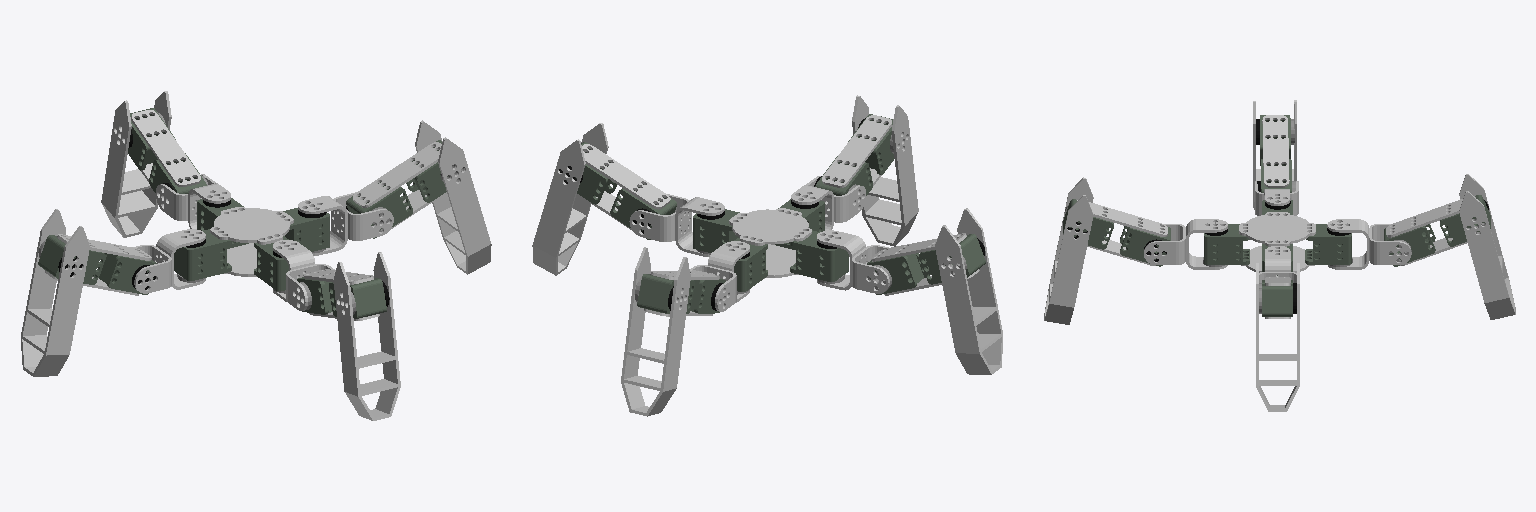
--- Facts derived from the render (not from the file) ---
Views: 3 orthographic renders of the robot side by side, from view 1: azimuth 30°, elevation 25°; view 2: azimuth 150°, elevation 25°; view 3: azimuth 270°, elevation 25°.
Robot: metabot — 13 links, 12 joints (12 revolute); root link body_1; default pose: every joint at zero.
Visible links, largest first — view 1: body_1, arm_leg_4, arm_leg_7, arm_leg_10, arm_leg_13, side_to_side_9, side_to_side_12, side_to_side_3, side_to_side_6, double_u_8, double_u_2, double_u_11 (+1 smaller); view 2: body_1, arm_leg_4, arm_leg_13, arm_leg_10, arm_leg_7, side_to_side_9, side_to_side_6, side_to_side_3, side_to_side_12, double_u_8, double_u_2, double_u_5 (+1 smaller); view 3: body_1, arm_leg_13, arm_leg_7, side_to_side_6, side_to_side_12, side_to_side_3, double_u_5, double_u_11, arm_leg_10, side_to_side_9, double_u_8, double_u_2 (+1 smaller).
Link boxes in pixels (x1,y1,x2,y2): body_1: [174, 198, 329, 293]; arm_leg_4: [21, 209, 89, 376]; arm_leg_7: [334, 252, 400, 420]; arm_leg_10: [415, 120, 491, 274]; arm_leg_13: [101, 91, 171, 237]; side_to_side_9: [346, 140, 464, 238]; side_to_side_12: [128, 108, 207, 193]; side_to_side_3: [38, 234, 156, 295]; side_to_side_6: [297, 269, 389, 320]; double_u_8: [298, 192, 393, 255]; double_u_2: [133, 229, 205, 293]; double_u_11: [156, 174, 230, 228]; body_1: [693, 199, 848, 294]; arm_leg_4: [935, 208, 1002, 374]; arm_leg_13: [621, 247, 690, 416]; arm_leg_10: [532, 123, 608, 275]; arm_leg_7: [852, 95, 918, 246]; side_to_side_9: [559, 142, 676, 239]; side_to_side_6: [814, 114, 894, 195]; side_to_side_3: [867, 233, 985, 295]; side_to_side_12: [635, 270, 725, 316]; double_u_8: [629, 194, 724, 256]; double_u_2: [817, 230, 889, 293]; double_u_5: [791, 176, 865, 230]; body_1: [1203, 200, 1352, 275]; arm_leg_13: [1459, 174, 1515, 319]; arm_leg_7: [1044, 177, 1093, 324]; side_to_side_6: [1063, 199, 1170, 266]; side_to_side_12: [1384, 195, 1490, 266]; side_to_side_3: [1256, 115, 1295, 192]; double_u_5: [1144, 219, 1227, 269]; double_u_11: [1327, 219, 1411, 269]; arm_leg_10: [1256, 263, 1299, 411]; side_to_side_9: [1259, 277, 1296, 318]; double_u_8: [1259, 246, 1296, 282]; double_u_2: [1254, 181, 1298, 215].
Size in the robot's own frame: 0.3713 by 0.3681 by 0.1208 metres.
Meshes: 7 distinct files referenced, 58 mesh visuals loaded (7 binary STL).

robot.urdf — metabot:
<robot name="metabot">

  <!-- Component body#1 -->

  <link name="body_1">
    <visual>
      <geometry>
        <mesh filename="package://urdf/4e915d5b16aa8907cefccf30eb105d8e3d740b2d.stl"/>
      </geometry>
      <material name="body_motor_1_0_material">
        <color rgba="0.4 0.45 0.4 1.0"/>
      </material>
    <origin xyz="-0.0487 1.08136e-17 0" rpy="0 -0 1.5708"/>
    </visual>
    <visual>
      <geometry>
        <mesh filename="package://urdf/c9594df5a78549c55778e76bc0836a7712245e87.stl"/>
      </geometry>
      <material name="body_arm_1_1_material">
        <color rgba="0.1 0.1 0.1 1.0"/>
      </material>
    <origin xyz="-0.0487 1.08136e-17 0.012" rpy="0 -0 1.5708"/>
    </visual>
    <visual>
      <geometry>
        <mesh filename="package://urdf/5dfb01608b6ea4556f482be78f0e2e7bf62b1390.stl"/>
      </geometry>
      <material name="body_pulley_1_2_material">
        <color rgba="0.6 0.6 0.6 1.0"/>
      </material>
    <origin xyz="-0.0487 1.08136e-17 -0.015" rpy="0 -0 1.5708"/>
    </visual>
    <visual>
      <geometry>
        <mesh filename="package://urdf/4e915d5b16aa8907cefccf30eb105d8e3d740b2d.stl"/>
      </geometry>
      <material name="body_motor_1_3_material">
        <color rgba="0.4 0.45 0.4 1.0"/>
      </material>
    <origin xyz="-5.96405e-18 -0.0487 0" rpy="0 -0 3.14159"/>
    </visual>
    <visual>
      <geometry>
        <mesh filename="package://urdf/c9594df5a78549c55778e76bc0836a7712245e87.stl"/>
      </geometry>
      <material name="body_arm_1_4_material">
        <color rgba="0.1 0.1 0.1 1.0"/>
      </material>
    <origin xyz="-5.96405e-18 -0.0487 0.012" rpy="0 -0 3.14159"/>
    </visual>
    <visual>
      <geometry>
        <mesh filename="package://urdf/5dfb01608b6ea4556f482be78f0e2e7bf62b1390.stl"/>
      </geometry>
      <material name="body_pulley_1_5_material">
        <color rgba="0.6 0.6 0.6 1.0"/>
      </material>
    <origin xyz="-5.96405e-18 -0.0487 -0.015" rpy="0 -0 3.14159"/>
    </visual>
    <visual>
      <geometry>
        <mesh filename="package://urdf/4e915d5b16aa8907cefccf30eb105d8e3d740b2d.stl"/>
      </geometry>
      <material name="body_motor_1_6_material">
        <color rgba="0.4 0.45 0.4 1.0"/>
      </material>
    <origin xyz="0.0487 -1.08136e-17 0" rpy="0 -0 -1.5708"/>
    </visual>
    <visual>
      <geometry>
        <mesh filename="package://urdf/c9594df5a78549c55778e76bc0836a7712245e87.stl"/>
      </geometry>
      <material name="body_arm_1_7_material">
        <color rgba="0.1 0.1 0.1 1.0"/>
      </material>
    <origin xyz="0.0487 -1.08136e-17 0.012" rpy="0 -0 -1.5708"/>
    </visual>
    <visual>
      <geometry>
        <mesh filename="package://urdf/5dfb01608b6ea4556f482be78f0e2e7bf62b1390.stl"/>
      </geometry>
      <material name="body_pulley_1_8_material">
        <color rgba="0.6 0.6 0.6 1.0"/>
      </material>
    <origin xyz="0.0487 -1.08136e-17 -0.015" rpy="0 -0 -1.5708"/>
    </visual>
    <visual>
      <geometry>
        <mesh filename="package://urdf/4e915d5b16aa8907cefccf30eb105d8e3d740b2d.stl"/>
      </geometry>
      <material name="body_motor_1_9_material">
        <color rgba="0.4 0.45 0.4 1.0"/>
      </material>
    <origin xyz="1.1928e-17 0.0487 0" rpy="0 -0 -2.44929e-16"/>
    </visual>
    <visual>
      <geometry>
        <mesh filename="package://urdf/c9594df5a78549c55778e76bc0836a7712245e87.stl"/>
      </geometry>
      <material name="body_arm_1_10_material">
        <color rgba="0.1 0.1 0.1 1.0"/>
      </material>
    <origin xyz="1.1928e-17 0.0487 0.012" rpy="0 -0 -2.44929e-16"/>
    </visual>
    <visual>
      <geometry>
        <mesh filename="package://urdf/5dfb01608b6ea4556f482be78f0e2e7bf62b1390.stl"/>
      </geometry>
      <material name="body_pulley_1_11_material">
        <color rgba="0.6 0.6 0.6 1.0"/>
      </material>
    <origin xyz="1.1928e-17 0.0487 -0.015" rpy="0 -0 -2.44929e-16"/>
    </visual>
    <visual>
      <geometry>
        <mesh filename="package://urdf/449a5639fcbe7efea7b5494d815c507bb183f40e.stl"/>
      </geometry>
      <material name="body_body_plate_1_12_material">
        <color rgba="0.8 0.8 0.8 1.0"/>
      </material>
    <origin xyz="0 0 -0.0142" rpy="0 -0 0"/>
    </visual>
    <visual>
      <geometry>
        <mesh filename="package://urdf/449a5639fcbe7efea7b5494d815c507bb183f40e.stl"/>
      </geometry>
      <material name="body_body_plate_1_13_material">
        <color rgba="0.8 0.8 0.8 1.0"/>
      </material>
    <origin xyz="0 0 0.012" rpy="0 -0 0"/>
    </visual>
  <inertial>
    <origin xyz="4.53594e-11 -3.82642e-10 -1.12162e-05" rpy="0 0 0"/>
    <mass value="0.099456"/>
    <inertia ixx="0.001"  ixy="0"  ixz="0" iyy="0.001" iyz="0" izz="0.001" />
  </inertial>
  <collision>
    <origin xyz="0 0 -0.0131" rpy="0 -0 0"/>
    <geometry>
      <cylinder radius="0.0268" length="0.002"/>
    </geometry>
  </collision>
  <collision>
    <origin xyz="-0.015 3.55271e-18 -0.0131" rpy="0 -0 1.5708"/>
    <geometry>
      <box size="0.0198 0.0298 0.002"/>
    </geometry>
  </collision>
  <collision>
    <origin xyz="-1.77636e-18 -0.015 -0.0131" rpy="0 -0 3.14159"/>
    <geometry>
      <box size="0.0198 0.0298 0.002"/>
    </geometry>
  </collision>
  <collision>
    <origin xyz="0.015 -3.55271e-18 -0.0131" rpy="0 -0 -1.5708"/>
    <geometry>
      <box size="0.0198 0.0298 0.002"/>
    </geometry>
  </collision>
  <collision>
    <origin xyz="3.55271e-18 0.015 -0.0131" rpy="0 -0 -2.44929e-16"/>
    <geometry>
      <box size="0.0198 0.0298 0.002"/>
    </geometry>
  </collision>
  <collision>
    <origin xyz="0 0 0.0131" rpy="0 -0 0"/>
    <geometry>
      <cylinder radius="0.0268" length="0.002"/>
    </geometry>
  </collision>
  <collision>
    <origin xyz="-0.015 3.55271e-18 0.0131" rpy="0 -0 1.5708"/>
    <geometry>
      <box size="0.0198 0.0298 0.002"/>
    </geometry>
  </collision>
  <collision>
    <origin xyz="-1.77636e-18 -0.015 0.0131" rpy="0 -0 3.14159"/>
    <geometry>
      <box size="0.0198 0.0298 0.002"/>
    </geometry>
  </collision>
  <collision>
    <origin xyz="0.015 -3.55271e-18 0.0131" rpy="0 -0 -1.5708"/>
    <geometry>
      <box size="0.0198 0.0298 0.002"/>
    </geometry>
  </collision>
  <collision>
    <origin xyz="3.55271e-18 0.015 0.0131" rpy="0 -0 -2.44929e-16"/>
    <geometry>
      <box size="0.0198 0.0298 0.002"/>
    </geometry>
  </collision>
  <collision>
    <origin xyz="-0.0397 8.81519e-18 0" rpy="0 -0 1.5708"/>
    <geometry>
      <box size="0.0238 0.0358 0.0238"/>
    </geometry>
  </collision>
  <collision>
    <origin xyz="-4.86186e-18 -0.0397 0" rpy="0 -0 3.14159"/>
    <geometry>
      <box size="0.0238 0.0358 0.0238"/>
    </geometry>
  </collision>
  <collision>
    <origin xyz="0.0397 -8.81519e-18 0" rpy="0 -0 -1.5708"/>
    <geometry>
      <box size="0.0238 0.0358 0.0238"/>
    </geometry>
  </collision>
  <collision>
    <origin xyz="9.72368e-18 0.0397 0" rpy="0 -0 -2.44929e-16"/>
    <geometry>
      <box size="0.0238 0.0358 0.0238"/>
    </geometry>
  </collision>
  </link>

  <!-- Component double_u#2 -->

  <link name="double_u_2">
    <visual>
      <geometry>
        <mesh filename="package://urdf/0764304f24bb9e5a0ba815eb3006b9188f0b3c72.stl"/>
      </geometry>
      <material name="double_u_u_2_0_material">
        <color rgba="0.8 0.8 0.8 1.0"/>
      </material>
    <origin xyz="0 0 0" rpy="0 -0 0"/>
    </visual>
    <visual>
      <geometry>
        <mesh filename="package://urdf/0764304f24bb9e5a0ba815eb3006b9188f0b3c72.stl"/>
      </geometry>
      <material name="double_u_u_2_1_material">
        <color rgba="0.8 0.8 0.8 1.0"/>
      </material>
    <origin xyz="0 0.046 0" rpy="-3.14159 1.5708 0"/>
    </visual>
  <inertial>
    <origin xyz="-7.79416e-19 0.023 0" rpy="0 0 0"/>
    <mass value="0.0074688"/>
    <inertia ixx="0.001"  ixy="0"  ixz="0" iyy="0.001" iyz="0" izz="0.001" />
  </inertial>
  <collision>
    <origin xyz="0 0 -0.0161" rpy="0 -0 0"/>
    <geometry>
      <cylinder radius="0.0098" length="0.002"/>
    </geometry>
  </collision>
  <collision>
    <origin xyz="0 0.0075 -0.0161" rpy="0 -0 0"/>
    <geometry>
      <box size="0.0198 0.0148 0.002"/>
    </geometry>
  </collision>
  <collision>
    <origin xyz="0 0.0219 -0.0046" rpy="0 -0 0"/>
    <geometry>
      <box size="0.0198 0.002 0.009"/>
    </geometry>
  </collision>
  <collision>
    <origin xyz="0 0 0.0161" rpy="3.14159 -0 0"/>
    <geometry>
      <cylinder radius="0.0098" length="0.002"/>
    </geometry>
  </collision>
  <collision>
    <origin xyz="0 0.0075 0.0161" rpy="3.14159 -0 0"/>
    <geometry>
      <box size="0.0198 0.0148 0.002"/>
    </geometry>
  </collision>
  <collision>
    <origin xyz="0 0.0219 0.0046" rpy="3.14159 -0 0"/>
    <geometry>
      <box size="0.0198 0.002 0.009"/>
    </geometry>
  </collision>
  <collision>
    <origin xyz="0.0161 0.046 -3.57492e-18" rpy="-3.14159 1.5708 0"/>
    <geometry>
      <cylinder radius="0.0098" length="0.002"/>
    </geometry>
  </collision>
  <collision>
    <origin xyz="0.0161 0.0385 -3.55271e-18" rpy="-3.14159 1.5708 0"/>
    <geometry>
      <box size="0.0198 0.0148 0.002"/>
    </geometry>
  </collision>
  <collision>
    <origin xyz="0.0046 0.0241 0" rpy="-3.14159 1.5708 0"/>
    <geometry>
      <box size="0.0198 0.002 0.009"/>
    </geometry>
  </collision>
  <collision>
    <origin xyz="-0.0161 0.046 3.57492e-18" rpy="-1.22465e-16 1.5708 0"/>
    <geometry>
      <cylinder radius="0.0098" length="0.002"/>
    </geometry>
  </collision>
  <collision>
    <origin xyz="-0.0161 0.0385 3.55271e-18" rpy="-1.22465e-16 1.5708 0"/>
    <geometry>
      <box size="0.0198 0.0148 0.002"/>
    </geometry>
  </collision>
  <collision>
    <origin xyz="-0.0046 0.0241 0" rpy="-1.22465e-16 1.5708 0"/>
    <geometry>
      <box size="0.0198 0.002 0.009"/>
    </geometry>
  </collision>
  </link>
  <joint name="double_u_2_parent" type="revolute">
    <parent link="body_1"/>
    <child link="double_u_2"/>
    <axis xyz="0 0 1"/>
<origin xyz="-0.0487 1.08136e-17 0" rpy="0 -0 1.58999"/>
  </joint>

  <!-- Component side_to_side#3 -->

  <link name="side_to_side_3">
    <visual>
      <geometry>
        <mesh filename="package://urdf/4e915d5b16aa8907cefccf30eb105d8e3d740b2d.stl"/>
      </geometry>
      <material name="side_to_side_motor_3_0_material">
        <color rgba="0.4 0.45 0.4 1.0"/>
      </material>
    <origin xyz="0 0 0" rpy="0 -0 0"/>
    </visual>
    <visual>
      <geometry>
        <mesh filename="package://urdf/c9594df5a78549c55778e76bc0836a7712245e87.stl"/>
      </geometry>
      <material name="side_to_side_arm_3_1_material">
        <color rgba="0.1 0.1 0.1 1.0"/>
      </material>
    <origin xyz="0 0 0.012" rpy="0 -0 0"/>
    </visual>
    <visual>
      <geometry>
        <mesh filename="package://urdf/5dfb01608b6ea4556f482be78f0e2e7bf62b1390.stl"/>
      </geometry>
      <material name="side_to_side_pulley_3_2_material">
        <color rgba="0.6 0.6 0.6 1.0"/>
      </material>
    <origin xyz="0 0 -0.015" rpy="0 -0 0"/>
    </visual>
    <visual>
      <geometry>
        <mesh filename="package://urdf/4e915d5b16aa8907cefccf30eb105d8e3d740b2d.stl"/>
      </geometry>
      <material name="side_to_side_motor_3_3_material">
        <color rgba="0.4 0.45 0.4 1.0"/>
      </material>
    <origin xyz="0 -0.065 0" rpy="0 -0 3.14159"/>
    </visual>
    <visual>
      <geometry>
        <mesh filename="package://urdf/c9594df5a78549c55778e76bc0836a7712245e87.stl"/>
      </geometry>
      <material name="side_to_side_arm_3_4_material">
        <color rgba="0.1 0.1 0.1 1.0"/>
      </material>
    <origin xyz="0 -0.065 0.012" rpy="0 -0 3.14159"/>
    </visual>
    <visual>
      <geometry>
        <mesh filename="package://urdf/5dfb01608b6ea4556f482be78f0e2e7bf62b1390.stl"/>
      </geometry>
      <material name="side_to_side_pulley_3_5_material">
        <color rgba="0.6 0.6 0.6 1.0"/>
      </material>
    <origin xyz="0 -0.065 -0.015" rpy="0 -0 3.14159"/>
    </visual>
    <visual>
      <geometry>
        <mesh filename="package://urdf/3e0e05f799d19b074b541a3df6a5bef4b6e32c33.stl"/>
      </geometry>
      <material name="side_to_side_side_3_6_material">
        <color rgba="0.8 0.8 0.8 1.0"/>
      </material>
    <origin xyz="0.0142 0 0" rpy="3.14159 1.5708 0"/>
    </visual>
    <visual>
      <geometry>
        <mesh filename="package://urdf/3e0e05f799d19b074b541a3df6a5bef4b6e32c33.stl"/>
      </geometry>
      <material name="side_to_side_side_3_7_material">
        <color rgba="0.8 0.8 0.8 1.0"/>
      </material>
    <origin xyz="-0.012 0 0" rpy="3.14159 1.5708 0"/>
    </visual>
  <inertial>
    <origin xyz="1.22496e-05 -0.0325 2.53328e-12" rpy="0 0 0"/>
    <mass value="0.0503136"/>
    <inertia ixx="0.001"  ixy="0"  ixz="0" iyy="0.001" iyz="0" izz="0.001" />
  </inertial>
  <collision>
    <origin xyz="0 -0.009 0" rpy="0 -0 0"/>
    <geometry>
      <box size="0.0238 0.0358 0.0238"/>
    </geometry>
  </collision>
  <collision>
    <origin xyz="0.0131 -0.0325 -2.4425e-19" rpy="3.14159 1.5708 0"/>
    <geometry>
      <box size="0.0198 0.0748 0.002"/>
    </geometry>
  </collision>
  <collision>
    <origin xyz="-0.0131 -0.0325 -2.4425e-19" rpy="3.14159 1.5708 0"/>
    <geometry>
      <box size="0.0198 0.0748 0.002"/>
    </geometry>
  </collision>
  <collision>
    <origin xyz="1.10219e-18 -0.056 0" rpy="0 -0 3.14159"/>
    <geometry>
      <box size="0.0238 0.0358 0.0238"/>
    </geometry>
  </collision>
  </link>
  <joint name="side_to_side_3_parent" type="revolute">
    <parent link="double_u_2"/>
    <child link="side_to_side_3"/>
    <axis xyz="0 0 1"/>
<origin xyz="0 0.046 0" rpy="-1.5708 1.17635 1.5708"/>
  </joint>

  <!-- Component arm_leg#4 -->

  <link name="arm_leg_4">
    <visual>
      <geometry>
        <mesh filename="package://urdf/b22ed7d8f9004ee720f254ddbdc16b8cba0e1fa9.stl"/>
      </geometry>
      <material name="arm_leg_leg_4_0_material">
        <color rgba="0.8 0.8 0.8 1.0"/>
      </material>
    <origin xyz="0 0 0" rpy="1.5708 1.5708 0"/>
    </visual>
  <inertial>
    <origin xyz="2.84293e-06 0.0393397 6.31258e-22" rpy="0 0 0"/>
    <mass value="0.0135072"/>
    <inertia ixx="0.001"  ixy="0"  ixz="0" iyy="0.001" iyz="0" izz="0.001" />
  </inertial>
  <collision>
    <origin xyz="-9.99203e-18 0.045 0" rpy="1.5708 1.5708 0"/>
    <geometry>
      <box size="0.0342 0.0198 0.002"/>
    </geometry>
  </collision>
  <collision>
    <origin xyz="2.4425e-19 0.015 -0.0161" rpy="3.14159 2.22045e-16 1.5708"/>
    <geometry>
      <box size="0.0598 0.0198 0.002"/>
    </geometry>
  </collision>
  <collision>
    <origin xyz="8.01582e-18 -0.02 -0.0161" rpy="1.5701e-16 3.79055e-16 -2.35619"/>
    <geometry>
      <box size="0.0138 0.0138 0.002"/>
    </geometry>
  </collision>
  <collision>
    <origin xyz="-6.9056e-18 0.015 0.0161" rpy="3.14159 2.22045e-16 1.5708"/>
    <geometry>
      <box size="0.0598 0.0198 0.002"/>
    </geometry>
  </collision>
  <collision>
    <origin xyz="8.65975e-19 -0.02 0.0161" rpy="1.5701e-16 3.79055e-16 -2.35619"/>
    <geometry>
      <box size="0.0138 0.0138 0.002"/>
    </geometry>
  </collision>
  <collision>
    <origin xyz="-1.49214e-17 0.0672 0" rpy="1.5708 1.5708 0"/>
    <geometry>
      <sphere radius="0.0198"/>
    </geometry>
  </collision>
  </link>
  <joint name="arm_leg_4_parent" type="revolute">
    <parent link="side_to_side_3"/>
    <child link="arm_leg_4"/>
    <axis xyz="0 0 1"/>
<origin xyz="0 -0.065 0" rpy="0 -0 -1.3823"/>
  </joint>

  <!-- Component double_u#5 -->

  <link name="double_u_5">
    <visual>
      <geometry>
        <mesh filename="package://urdf/0764304f24bb9e5a0ba815eb3006b9188f0b3c72.stl"/>
      </geometry>
      <material name="double_u_u_5_0_material">
        <color rgba="0.8 0.8 0.8 1.0"/>
      </material>
    <origin xyz="0 0 0" rpy="0 -0 0"/>
    </visual>
    <visual>
      <geometry>
        <mesh filename="package://urdf/0764304f24bb9e5a0ba815eb3006b9188f0b3c72.stl"/>
      </geometry>
      <material name="double_u_u_5_1_material">
        <color rgba="0.8 0.8 0.8 1.0"/>
      </material>
    <origin xyz="0 0.046 0" rpy="-3.14159 1.5708 0"/>
    </visual>
  <inertial>
    <origin xyz="-7.79416e-19 0.023 0" rpy="0 0 0"/>
    <mass value="0.0074688"/>
    <inertia ixx="0.001"  ixy="0"  ixz="0" iyy="0.001" iyz="0" izz="0.001" />
  </inertial>
  <collision>
    <origin xyz="0 0 -0.0161" rpy="0 -0 0"/>
    <geometry>
      <cylinder radius="0.0098" length="0.002"/>
    </geometry>
  </collision>
  <collision>
    <origin xyz="0 0.0075 -0.0161" rpy="0 -0 0"/>
    <geometry>
      <box size="0.0198 0.0148 0.002"/>
    </geometry>
  </collision>
  <collision>
    <origin xyz="0 0.0219 -0.0046" rpy="0 -0 0"/>
    <geometry>
      <box size="0.0198 0.002 0.009"/>
    </geometry>
  </collision>
  <collision>
    <origin xyz="0 0 0.0161" rpy="3.14159 -0 0"/>
    <geometry>
      <cylinder radius="0.0098" length="0.002"/>
    </geometry>
  </collision>
  <collision>
    <origin xyz="0 0.0075 0.0161" rpy="3.14159 -0 0"/>
    <geometry>
      <box size="0.0198 0.0148 0.002"/>
    </geometry>
  </collision>
  <collision>
    <origin xyz="0 0.0219 0.0046" rpy="3.14159 -0 0"/>
    <geometry>
      <box size="0.0198 0.002 0.009"/>
    </geometry>
  </collision>
  <collision>
    <origin xyz="0.0161 0.046 -3.57492e-18" rpy="-3.14159 1.5708 0"/>
    <geometry>
      <cylinder radius="0.0098" length="0.002"/>
    </geometry>
  </collision>
  <collision>
    <origin xyz="0.0161 0.0385 -3.55271e-18" rpy="-3.14159 1.5708 0"/>
    <geometry>
      <box size="0.0198 0.0148 0.002"/>
    </geometry>
  </collision>
  <collision>
    <origin xyz="0.0046 0.0241 0" rpy="-3.14159 1.5708 0"/>
    <geometry>
      <box size="0.0198 0.002 0.009"/>
    </geometry>
  </collision>
  <collision>
    <origin xyz="-0.0161 0.046 3.57492e-18" rpy="-1.22465e-16 1.5708 0"/>
    <geometry>
      <cylinder radius="0.0098" length="0.002"/>
    </geometry>
  </collision>
  <collision>
    <origin xyz="-0.0161 0.0385 3.55271e-18" rpy="-1.22465e-16 1.5708 0"/>
    <geometry>
      <box size="0.0198 0.0148 0.002"/>
    </geometry>
  </collision>
  <collision>
    <origin xyz="-0.0046 0.0241 0" rpy="-1.22465e-16 1.5708 0"/>
    <geometry>
      <box size="0.0198 0.002 0.009"/>
    </geometry>
  </collision>
  </link>
  <joint name="double_u_5_parent" type="revolute">
    <parent link="body_1"/>
    <child link="double_u_5"/>
    <axis xyz="0 0 1"/>
<origin xyz="-5.96405e-18 -0.0487 0" rpy="0 -0 3.14159"/>
  </joint>

  <!-- Component side_to_side#6 -->

  <link name="side_to_side_6">
    <visual>
      <geometry>
        <mesh filename="package://urdf/4e915d5b16aa8907cefccf30eb105d8e3d740b2d.stl"/>
      </geometry>
      <material name="side_to_side_motor_6_0_material">
        <color rgba="0.4 0.45 0.4 1.0"/>
      </material>
    <origin xyz="0 0 0" rpy="0 -0 0"/>
    </visual>
    <visual>
      <geometry>
        <mesh filename="package://urdf/c9594df5a78549c55778e76bc0836a7712245e87.stl"/>
      </geometry>
      <material name="side_to_side_arm_6_1_material">
        <color rgba="0.1 0.1 0.1 1.0"/>
      </material>
    <origin xyz="0 0 0.012" rpy="0 -0 0"/>
    </visual>
    <visual>
      <geometry>
        <mesh filename="package://urdf/5dfb01608b6ea4556f482be78f0e2e7bf62b1390.stl"/>
      </geometry>
      <material name="side_to_side_pulley_6_2_material">
        <color rgba="0.6 0.6 0.6 1.0"/>
      </material>
    <origin xyz="0 0 -0.015" rpy="0 -0 0"/>
    </visual>
    <visual>
      <geometry>
        <mesh filename="package://urdf/4e915d5b16aa8907cefccf30eb105d8e3d740b2d.stl"/>
      </geometry>
      <material name="side_to_side_motor_6_3_material">
        <color rgba="0.4 0.45 0.4 1.0"/>
      </material>
    <origin xyz="0 -0.065 0" rpy="0 -0 3.14159"/>
    </visual>
    <visual>
      <geometry>
        <mesh filename="package://urdf/c9594df5a78549c55778e76bc0836a7712245e87.stl"/>
      </geometry>
      <material name="side_to_side_arm_6_4_material">
        <color rgba="0.1 0.1 0.1 1.0"/>
      </material>
    <origin xyz="0 -0.065 0.012" rpy="0 -0 3.14159"/>
    </visual>
    <visual>
      <geometry>
        <mesh filename="package://urdf/5dfb01608b6ea4556f482be78f0e2e7bf62b1390.stl"/>
      </geometry>
      <material name="side_to_side_pulley_6_5_material">
        <color rgba="0.6 0.6 0.6 1.0"/>
      </material>
    <origin xyz="0 -0.065 -0.015" rpy="0 -0 3.14159"/>
    </visual>
    <visual>
      <geometry>
        <mesh filename="package://urdf/3e0e05f799d19b074b541a3df6a5bef4b6e32c33.stl"/>
      </geometry>
      <material name="side_to_side_side_6_6_material">
        <color rgba="0.8 0.8 0.8 1.0"/>
      </material>
    <origin xyz="0.0142 0 0" rpy="3.14159 1.5708 0"/>
    </visual>
    <visual>
      <geometry>
        <mesh filename="package://urdf/3e0e05f799d19b074b541a3df6a5bef4b6e32c33.stl"/>
      </geometry>
      <material name="side_to_side_side_6_7_material">
        <color rgba="0.8 0.8 0.8 1.0"/>
      </material>
    <origin xyz="-0.012 0 0" rpy="3.14159 1.5708 0"/>
    </visual>
  <inertial>
    <origin xyz="1.22496e-05 -0.0325 2.53328e-12" rpy="0 0 0"/>
    <mass value="0.0503136"/>
    <inertia ixx="0.001"  ixy="0"  ixz="0" iyy="0.001" iyz="0" izz="0.001" />
  </inertial>
  <collision>
    <origin xyz="0 -0.009 0" rpy="0 -0 0"/>
    <geometry>
      <box size="0.0238 0.0358 0.0238"/>
    </geometry>
  </collision>
  <collision>
    <origin xyz="0.0131 -0.0325 -2.4425e-19" rpy="3.14159 1.5708 0"/>
    <geometry>
      <box size="0.0198 0.0748 0.002"/>
    </geometry>
  </collision>
  <collision>
    <origin xyz="-0.0131 -0.0325 -2.4425e-19" rpy="3.14159 1.5708 0"/>
    <geometry>
      <box size="0.0198 0.0748 0.002"/>
    </geometry>
  </collision>
  <collision>
    <origin xyz="1.10219e-18 -0.056 0" rpy="0 -0 3.14159"/>
    <geometry>
      <box size="0.0238 0.0358 0.0238"/>
    </geometry>
  </collision>
  </link>
  <joint name="side_to_side_6_parent" type="revolute">
    <parent link="double_u_5"/>
    <child link="side_to_side_6"/>
    <axis xyz="0 0 1"/>
<origin xyz="0 0.046 0" rpy="-1.5708 1.25489 1.5708"/>
  </joint>

  <!-- Component arm_leg#7 -->

  <link name="arm_leg_7">
    <visual>
      <geometry>
        <mesh filename="package://urdf/b22ed7d8f9004ee720f254ddbdc16b8cba0e1fa9.stl"/>
      </geometry>
      <material name="arm_leg_leg_7_0_material">
        <color rgba="0.8 0.8 0.8 1.0"/>
      </material>
    <origin xyz="0 0 0" rpy="1.5708 1.5708 0"/>
    </visual>
  <inertial>
    <origin xyz="2.84293e-06 0.0393397 6.31258e-22" rpy="0 0 0"/>
    <mass value="0.0135072"/>
    <inertia ixx="0.001"  ixy="0"  ixz="0" iyy="0.001" iyz="0" izz="0.001" />
  </inertial>
  <collision>
    <origin xyz="-9.99203e-18 0.045 0" rpy="1.5708 1.5708 0"/>
    <geometry>
      <box size="0.0342 0.0198 0.002"/>
    </geometry>
  </collision>
  <collision>
    <origin xyz="2.4425e-19 0.015 -0.0161" rpy="3.14159 2.22045e-16 1.5708"/>
    <geometry>
      <box size="0.0598 0.0198 0.002"/>
    </geometry>
  </collision>
  <collision>
    <origin xyz="8.01582e-18 -0.02 -0.0161" rpy="1.5701e-16 3.79055e-16 -2.35619"/>
    <geometry>
      <box size="0.0138 0.0138 0.002"/>
    </geometry>
  </collision>
  <collision>
    <origin xyz="-6.9056e-18 0.015 0.0161" rpy="3.14159 2.22045e-16 1.5708"/>
    <geometry>
      <box size="0.0598 0.0198 0.002"/>
    </geometry>
  </collision>
  <collision>
    <origin xyz="8.65975e-19 -0.02 0.0161" rpy="1.5701e-16 3.79055e-16 -2.35619"/>
    <geometry>
      <box size="0.0138 0.0138 0.002"/>
    </geometry>
  </collision>
  <collision>
    <origin xyz="-1.49214e-17 0.0672 0" rpy="1.5708 1.5708 0"/>
    <geometry>
      <sphere radius="0.0198"/>
    </geometry>
  </collision>
  </link>
  <joint name="arm_leg_7_parent" type="revolute">
    <parent link="side_to_side_6"/>
    <child link="arm_leg_7"/>
    <axis xyz="0 0 1"/>
<origin xyz="0 -0.065 0" rpy="0 -0 -1.44164"/>
  </joint>

  <!-- Component double_u#8 -->

  <link name="double_u_8">
    <visual>
      <geometry>
        <mesh filename="package://urdf/0764304f24bb9e5a0ba815eb3006b9188f0b3c72.stl"/>
      </geometry>
      <material name="double_u_u_8_0_material">
        <color rgba="0.8 0.8 0.8 1.0"/>
      </material>
    <origin xyz="-1.25087e-33 0.046 -5.63339e-18" rpy="3.14159 1.5708 0"/>
    </visual>
    <visual>
      <geometry>
        <mesh filename="package://urdf/0764304f24bb9e5a0ba815eb3006b9188f0b3c72.stl"/>
      </geometry>
      <material name="double_u_u_8_1_material">
        <color rgba="0.8 0.8 0.8 1.0"/>
      </material>
    <origin xyz="0 0 0" rpy="0 -0 0"/>
    </visual>
  <inertial>
    <origin xyz="-4.52368e-34 0.023 -2.03728e-18" rpy="0 0 0"/>
    <mass value="0.0074688"/>
    <inertia ixx="0.001"  ixy="0"  ixz="0" iyy="0.001" iyz="0" izz="0.001" />
  </inertial>
  <collision>
    <origin xyz="0.0161 0.046 -9.20831e-18" rpy="3.14159 1.5708 0"/>
    <geometry>
      <cylinder radius="0.0098" length="0.002"/>
    </geometry>
  </collision>
  <collision>
    <origin xyz="0.0161 0.0385 -8.28983e-18" rpy="3.14159 1.5708 0"/>
    <geometry>
      <box size="0.0198 0.0148 0.002"/>
    </geometry>
  </collision>
  <collision>
    <origin xyz="0.0046 0.0241 -3.97281e-18" rpy="3.14159 1.5708 0"/>
    <geometry>
      <box size="0.0198 0.002 0.009"/>
    </geometry>
  </collision>
  <collision>
    <origin xyz="-0.0161 0.046 -2.05847e-18" rpy="2.71927e-32 1.5708 0"/>
    <geometry>
      <cylinder radius="0.0098" length="0.002"/>
    </geometry>
  </collision>
  <collision>
    <origin xyz="-0.0161 0.0385 -1.13998e-18" rpy="2.71927e-32 1.5708 0"/>
    <geometry>
      <box size="0.0198 0.0148 0.002"/>
    </geometry>
  </collision>
  <collision>
    <origin xyz="-0.0046 0.0241 -1.93e-18" rpy="2.71927e-32 1.5708 0"/>
    <geometry>
      <box size="0.0198 0.002 0.009"/>
    </geometry>
  </collision>
  <collision>
    <origin xyz="3.26856e-34 0 -0.0161" rpy="0 -0 0"/>
    <geometry>
      <cylinder radius="0.0098" length="0.002"/>
    </geometry>
  </collision>
  <collision>
    <origin xyz="-2.2211e-20 0.0075 -0.0161" rpy="0 -0 0"/>
    <geometry>
      <box size="0.0198 0.0148 0.002"/>
    </geometry>
  </collision>
  <collision>
    <origin xyz="-1.02141e-18 0.0219 -0.0046" rpy="0 -0 0"/>
    <geometry>
      <box size="0.0198 0.002 0.009"/>
    </geometry>
  </collision>
  <collision>
    <origin xyz="3.26856e-34 -7.10543e-18 0.0161" rpy="3.14159 -0 0"/>
    <geometry>
      <cylinder radius="0.0098" length="0.002"/>
    </geometry>
  </collision>
  <collision>
    <origin xyz="2.2211e-20 0.0075 0.0161" rpy="3.14159 -0 0"/>
    <geometry>
      <box size="0.0198 0.0148 0.002"/>
    </geometry>
  </collision>
  <collision>
    <origin xyz="1.02141e-18 0.0219 0.0046" rpy="3.14159 -0 0"/>
    <geometry>
      <box size="0.0198 0.002 0.009"/>
    </geometry>
  </collision>
  </link>
  <joint name="double_u_8_parent" type="revolute">
    <parent link="body_1"/>
    <child link="double_u_8"/>
    <axis xyz="0 0 1"/>
<origin xyz="0.0487 -1.08136e-17 0" rpy="0 -0 -1.5708"/>
  </joint>

  <!-- Component side_to_side#9 -->

  <link name="side_to_side_9">
    <visual>
      <geometry>
        <mesh filename="package://urdf/4e915d5b16aa8907cefccf30eb105d8e3d740b2d.stl"/>
      </geometry>
      <material name="side_to_side_motor_9_0_material">
        <color rgba="0.4 0.45 0.4 1.0"/>
      </material>
    <origin xyz="0 0 0" rpy="0 -0 0"/>
    </visual>
    <visual>
      <geometry>
        <mesh filename="package://urdf/c9594df5a78549c55778e76bc0836a7712245e87.stl"/>
      </geometry>
      <material name="side_to_side_arm_9_1_material">
        <color rgba="0.1 0.1 0.1 1.0"/>
      </material>
    <origin xyz="0 0 0.012" rpy="0 -0 0"/>
    </visual>
    <visual>
      <geometry>
        <mesh filename="package://urdf/5dfb01608b6ea4556f482be78f0e2e7bf62b1390.stl"/>
      </geometry>
      <material name="side_to_side_pulley_9_2_material">
        <color rgba="0.6 0.6 0.6 1.0"/>
      </material>
    <origin xyz="0 0 -0.015" rpy="0 -0 0"/>
    </visual>
    <visual>
      <geometry>
        <mesh filename="package://urdf/4e915d5b16aa8907cefccf30eb105d8e3d740b2d.stl"/>
      </geometry>
      <material name="side_to_side_motor_9_3_material">
        <color rgba="0.4 0.45 0.4 1.0"/>
      </material>
    <origin xyz="0 -0.065 0" rpy="0 -0 3.14159"/>
    </visual>
    <visual>
      <geometry>
        <mesh filename="package://urdf/c9594df5a78549c55778e76bc0836a7712245e87.stl"/>
      </geometry>
      <material name="side_to_side_arm_9_4_material">
        <color rgba="0.1 0.1 0.1 1.0"/>
      </material>
    <origin xyz="0 -0.065 0.012" rpy="0 -0 3.14159"/>
    </visual>
    <visual>
      <geometry>
        <mesh filename="package://urdf/5dfb01608b6ea4556f482be78f0e2e7bf62b1390.stl"/>
      </geometry>
      <material name="side_to_side_pulley_9_5_material">
        <color rgba="0.6 0.6 0.6 1.0"/>
      </material>
    <origin xyz="0 -0.065 -0.015" rpy="0 -0 3.14159"/>
    </visual>
    <visual>
      <geometry>
        <mesh filename="package://urdf/3e0e05f799d19b074b541a3df6a5bef4b6e32c33.stl"/>
      </geometry>
      <material name="side_to_side_side_9_6_material">
        <color rgba="0.8 0.8 0.8 1.0"/>
      </material>
    <origin xyz="0.0142 0 0" rpy="3.14159 1.5708 0"/>
    </visual>
    <visual>
      <geometry>
        <mesh filename="package://urdf/3e0e05f799d19b074b541a3df6a5bef4b6e32c33.stl"/>
      </geometry>
      <material name="side_to_side_side_9_7_material">
        <color rgba="0.8 0.8 0.8 1.0"/>
      </material>
    <origin xyz="-0.012 0 0" rpy="3.14159 1.5708 0"/>
    </visual>
  <inertial>
    <origin xyz="1.22496e-05 -0.0325 2.53328e-12" rpy="0 0 0"/>
    <mass value="0.0503136"/>
    <inertia ixx="0.001"  ixy="0"  ixz="0" iyy="0.001" iyz="0" izz="0.001" />
  </inertial>
  <collision>
    <origin xyz="0 -0.009 0" rpy="0 -0 0"/>
    <geometry>
      <box size="0.0238 0.0358 0.0238"/>
    </geometry>
  </collision>
  <collision>
    <origin xyz="0.0131 -0.0325 -2.4425e-19" rpy="3.14159 1.5708 0"/>
    <geometry>
      <box size="0.0198 0.0748 0.002"/>
    </geometry>
  </collision>
  <collision>
    <origin xyz="-0.0131 -0.0325 -2.4425e-19" rpy="3.14159 1.5708 0"/>
    <geometry>
      <box size="0.0198 0.0748 0.002"/>
    </geometry>
  </collision>
  <collision>
    <origin xyz="1.10219e-18 -0.056 0" rpy="0 -0 3.14159"/>
    <geometry>
      <box size="0.0238 0.0358 0.0238"/>
    </geometry>
  </collision>
  </link>
  <joint name="side_to_side_9_parent" type="revolute">
    <parent link="double_u_8"/>
    <child link="side_to_side_9"/>
    <axis xyz="0 0 1"/>
<origin xyz="-1.25087e-33 0.046 -5.63339e-18" rpy="-1.5708 1.19555 1.5708"/>
  </joint>

  <!-- Component arm_leg#10 -->

  <link name="arm_leg_10">
    <visual>
      <geometry>
        <mesh filename="package://urdf/b22ed7d8f9004ee720f254ddbdc16b8cba0e1fa9.stl"/>
      </geometry>
      <material name="arm_leg_leg_10_0_material">
        <color rgba="0.8 0.8 0.8 1.0"/>
      </material>
    <origin xyz="0 0 0" rpy="1.5708 1.5708 0"/>
    </visual>
  <inertial>
    <origin xyz="2.84293e-06 0.0393397 6.31258e-22" rpy="0 0 0"/>
    <mass value="0.0135072"/>
    <inertia ixx="0.001"  ixy="0"  ixz="0" iyy="0.001" iyz="0" izz="0.001" />
  </inertial>
  <collision>
    <origin xyz="-9.99203e-18 0.045 0" rpy="1.5708 1.5708 0"/>
    <geometry>
      <box size="0.0342 0.0198 0.002"/>
    </geometry>
  </collision>
  <collision>
    <origin xyz="2.4425e-19 0.015 -0.0161" rpy="3.14159 2.22045e-16 1.5708"/>
    <geometry>
      <box size="0.0598 0.0198 0.002"/>
    </geometry>
  </collision>
  <collision>
    <origin xyz="8.01582e-18 -0.02 -0.0161" rpy="1.5701e-16 3.79055e-16 -2.35619"/>
    <geometry>
      <box size="0.0138 0.0138 0.002"/>
    </geometry>
  </collision>
  <collision>
    <origin xyz="-6.9056e-18 0.015 0.0161" rpy="3.14159 2.22045e-16 1.5708"/>
    <geometry>
      <box size="0.0598 0.0198 0.002"/>
    </geometry>
  </collision>
  <collision>
    <origin xyz="8.65975e-19 -0.02 0.0161" rpy="1.5701e-16 3.79055e-16 -2.35619"/>
    <geometry>
      <box size="0.0138 0.0138 0.002"/>
    </geometry>
  </collision>
  <collision>
    <origin xyz="-1.49214e-17 0.0672 0" rpy="1.5708 1.5708 0"/>
    <geometry>
      <sphere radius="0.0198"/>
    </geometry>
  </collision>
  </link>
  <joint name="arm_leg_10_parent" type="revolute">
    <parent link="side_to_side_9"/>
    <child link="arm_leg_10"/>
    <axis xyz="0 0 1"/>
<origin xyz="0 -0.065 0" rpy="0 -0 -1.48178"/>
  </joint>

  <!-- Component double_u#11 -->

  <link name="double_u_11">
    <visual>
      <geometry>
        <mesh filename="package://urdf/0764304f24bb9e5a0ba815eb3006b9188f0b3c72.stl"/>
      </geometry>
      <material name="double_u_u_11_0_material">
        <color rgba="0.8 0.8 0.8 1.0"/>
      </material>
    <origin xyz="-1.25087e-33 0.046 -5.63339e-18" rpy="3.14159 1.5708 0"/>
    </visual>
    <visual>
      <geometry>
        <mesh filename="package://urdf/0764304f24bb9e5a0ba815eb3006b9188f0b3c72.stl"/>
      </geometry>
      <material name="double_u_u_11_1_material">
        <color rgba="0.8 0.8 0.8 1.0"/>
      </material>
    <origin xyz="0 0 0" rpy="0 -0 0"/>
    </visual>
  <inertial>
    <origin xyz="-4.52368e-34 0.023 -2.03728e-18" rpy="0 0 0"/>
    <mass value="0.0074688"/>
    <inertia ixx="0.001"  ixy="0"  ixz="0" iyy="0.001" iyz="0" izz="0.001" />
  </inertial>
  <collision>
    <origin xyz="0.0161 0.046 -9.20831e-18" rpy="3.14159 1.5708 0"/>
    <geometry>
      <cylinder radius="0.0098" length="0.002"/>
    </geometry>
  </collision>
  <collision>
    <origin xyz="0.0161 0.0385 -8.28983e-18" rpy="3.14159 1.5708 0"/>
    <geometry>
      <box size="0.0198 0.0148 0.002"/>
    </geometry>
  </collision>
  <collision>
    <origin xyz="0.0046 0.0241 -3.97281e-18" rpy="3.14159 1.5708 0"/>
    <geometry>
      <box size="0.0198 0.002 0.009"/>
    </geometry>
  </collision>
  <collision>
    <origin xyz="-0.0161 0.046 -2.05847e-18" rpy="2.71927e-32 1.5708 0"/>
    <geometry>
      <cylinder radius="0.0098" length="0.002"/>
    </geometry>
  </collision>
  <collision>
    <origin xyz="-0.0161 0.0385 -1.13998e-18" rpy="2.71927e-32 1.5708 0"/>
    <geometry>
      <box size="0.0198 0.0148 0.002"/>
    </geometry>
  </collision>
  <collision>
    <origin xyz="-0.0046 0.0241 -1.93e-18" rpy="2.71927e-32 1.5708 0"/>
    <geometry>
      <box size="0.0198 0.002 0.009"/>
    </geometry>
  </collision>
  <collision>
    <origin xyz="3.26856e-34 0 -0.0161" rpy="0 -0 0"/>
    <geometry>
      <cylinder radius="0.0098" length="0.002"/>
    </geometry>
  </collision>
  <collision>
    <origin xyz="-2.2211e-20 0.0075 -0.0161" rpy="0 -0 0"/>
    <geometry>
      <box size="0.0198 0.0148 0.002"/>
    </geometry>
  </collision>
  <collision>
    <origin xyz="-1.02141e-18 0.0219 -0.0046" rpy="0 -0 0"/>
    <geometry>
      <box size="0.0198 0.002 0.009"/>
    </geometry>
  </collision>
  <collision>
    <origin xyz="3.26856e-34 -7.10543e-18 0.0161" rpy="3.14159 -0 0"/>
    <geometry>
      <cylinder radius="0.0098" length="0.002"/>
    </geometry>
  </collision>
  <collision>
    <origin xyz="2.2211e-20 0.0075 0.0161" rpy="3.14159 -0 0"/>
    <geometry>
      <box size="0.0198 0.0148 0.002"/>
    </geometry>
  </collision>
  <collision>
    <origin xyz="1.02141e-18 0.0219 0.0046" rpy="3.14159 -0 0"/>
    <geometry>
      <box size="0.0198 0.002 0.009"/>
    </geometry>
  </collision>
  </link>
  <joint name="double_u_11_parent" type="revolute">
    <parent link="body_1"/>
    <child link="double_u_11"/>
    <axis xyz="0 0 1"/>
<origin xyz="1.1928e-17 0.0487 0" rpy="0 -0 -2.44929e-16"/>
  </joint>

  <!-- Component side_to_side#12 -->

  <link name="side_to_side_12">
    <visual>
      <geometry>
        <mesh filename="package://urdf/4e915d5b16aa8907cefccf30eb105d8e3d740b2d.stl"/>
      </geometry>
      <material name="side_to_side_motor_12_0_material">
        <color rgba="0.4 0.45 0.4 1.0"/>
      </material>
    <origin xyz="0 0 0" rpy="0 -0 0"/>
    </visual>
    <visual>
      <geometry>
        <mesh filename="package://urdf/c9594df5a78549c55778e76bc0836a7712245e87.stl"/>
      </geometry>
      <material name="side_to_side_arm_12_1_material">
        <color rgba="0.1 0.1 0.1 1.0"/>
      </material>
    <origin xyz="0 0 0.012" rpy="0 -0 0"/>
    </visual>
    <visual>
      <geometry>
        <mesh filename="package://urdf/5dfb01608b6ea4556f482be78f0e2e7bf62b1390.stl"/>
      </geometry>
      <material name="side_to_side_pulley_12_2_material">
        <color rgba="0.6 0.6 0.6 1.0"/>
      </material>
    <origin xyz="0 0 -0.015" rpy="0 -0 0"/>
    </visual>
    <visual>
      <geometry>
        <mesh filename="package://urdf/4e915d5b16aa8907cefccf30eb105d8e3d740b2d.stl"/>
      </geometry>
      <material name="side_to_side_motor_12_3_material">
        <color rgba="0.4 0.45 0.4 1.0"/>
      </material>
    <origin xyz="0 -0.065 0" rpy="0 -0 3.14159"/>
    </visual>
    <visual>
      <geometry>
        <mesh filename="package://urdf/c9594df5a78549c55778e76bc0836a7712245e87.stl"/>
      </geometry>
      <material name="side_to_side_arm_12_4_material">
        <color rgba="0.1 0.1 0.1 1.0"/>
      </material>
    <origin xyz="0 -0.065 0.012" rpy="0 -0 3.14159"/>
    </visual>
    <visual>
      <geometry>
        <mesh filename="package://urdf/5dfb01608b6ea4556f482be78f0e2e7bf62b1390.stl"/>
      </geometry>
      <material name="side_to_side_pulley_12_5_material">
        <color rgba="0.6 0.6 0.6 1.0"/>
      </material>
    <origin xyz="0 -0.065 -0.015" rpy="0 -0 3.14159"/>
    </visual>
    <visual>
      <geometry>
        <mesh filename="package://urdf/3e0e05f799d19b074b541a3df6a5bef4b6e32c33.stl"/>
      </geometry>
      <material name="side_to_side_side_12_6_material">
        <color rgba="0.8 0.8 0.8 1.0"/>
      </material>
    <origin xyz="0.0142 0 0" rpy="3.14159 1.5708 0"/>
    </visual>
    <visual>
      <geometry>
        <mesh filename="package://urdf/3e0e05f799d19b074b541a3df6a5bef4b6e32c33.stl"/>
      </geometry>
      <material name="side_to_side_side_12_7_material">
        <color rgba="0.8 0.8 0.8 1.0"/>
      </material>
    <origin xyz="-0.012 0 0" rpy="3.14159 1.5708 0"/>
    </visual>
  <inertial>
    <origin xyz="1.22496e-05 -0.0325 2.53328e-12" rpy="0 0 0"/>
    <mass value="0.0503136"/>
    <inertia ixx="0.001"  ixy="0"  ixz="0" iyy="0.001" iyz="0" izz="0.001" />
  </inertial>
  <collision>
    <origin xyz="0 -0.009 0" rpy="0 -0 0"/>
    <geometry>
      <box size="0.0238 0.0358 0.0238"/>
    </geometry>
  </collision>
  <collision>
    <origin xyz="0.0131 -0.0325 -2.4425e-19" rpy="3.14159 1.5708 0"/>
    <geometry>
      <box size="0.0198 0.0748 0.002"/>
    </geometry>
  </collision>
  <collision>
    <origin xyz="-0.0131 -0.0325 -2.4425e-19" rpy="3.14159 1.5708 0"/>
    <geometry>
      <box size="0.0198 0.0748 0.002"/>
    </geometry>
  </collision>
  <collision>
    <origin xyz="1.10219e-18 -0.056 0" rpy="0 -0 3.14159"/>
    <geometry>
      <box size="0.0238 0.0358 0.0238"/>
    </geometry>
  </collision>
  </link>
  <joint name="side_to_side_12_parent" type="revolute">
    <parent link="double_u_11"/>
    <child link="side_to_side_12"/>
    <axis xyz="0 0 1"/>
<origin xyz="-1.25087e-33 0.046 -5.63339e-18" rpy="-1.5708 1.19555 1.5708"/>
  </joint>

  <!-- Component arm_leg#13 -->

  <link name="arm_leg_13">
    <visual>
      <geometry>
        <mesh filename="package://urdf/b22ed7d8f9004ee720f254ddbdc16b8cba0e1fa9.stl"/>
      </geometry>
      <material name="arm_leg_leg_13_0_material">
        <color rgba="0.8 0.8 0.8 1.0"/>
      </material>
    <origin xyz="0 0 0" rpy="1.5708 1.5708 0"/>
    </visual>
  <inertial>
    <origin xyz="2.84293e-06 0.0393397 6.31258e-22" rpy="0 0 0"/>
    <mass value="0.0135072"/>
    <inertia ixx="0.001"  ixy="0"  ixz="0" iyy="0.001" iyz="0" izz="0.001" />
  </inertial>
  <collision>
    <origin xyz="-9.99203e-18 0.045 0" rpy="1.5708 1.5708 0"/>
    <geometry>
      <box size="0.0342 0.0198 0.002"/>
    </geometry>
  </collision>
  <collision>
    <origin xyz="2.4425e-19 0.015 -0.0161" rpy="3.14159 2.22045e-16 1.5708"/>
    <geometry>
      <box size="0.0598 0.0198 0.002"/>
    </geometry>
  </collision>
  <collision>
    <origin xyz="8.01582e-18 -0.02 -0.0161" rpy="1.5701e-16 3.79055e-16 -2.35619"/>
    <geometry>
      <box size="0.0138 0.0138 0.002"/>
    </geometry>
  </collision>
  <collision>
    <origin xyz="-6.9056e-18 0.015 0.0161" rpy="3.14159 2.22045e-16 1.5708"/>
    <geometry>
      <box size="0.0598 0.0198 0.002"/>
    </geometry>
  </collision>
  <collision>
    <origin xyz="8.65975e-19 -0.02 0.0161" rpy="1.5701e-16 3.79055e-16 -2.35619"/>
    <geometry>
      <box size="0.0138 0.0138 0.002"/>
    </geometry>
  </collision>
  <collision>
    <origin xyz="-1.49214e-17 0.0672 0" rpy="1.5708 1.5708 0"/>
    <geometry>
      <sphere radius="0.0198"/>
    </geometry>
  </collision>
  </link>
  <joint name="arm_leg_13_parent" type="revolute">
    <parent link="side_to_side_12"/>
    <child link="arm_leg_13"/>
    <axis xyz="0 0 1"/>
<origin xyz="0 -0.065 0" rpy="0 -0 -1.44164"/>
  </joint>
</robot>
